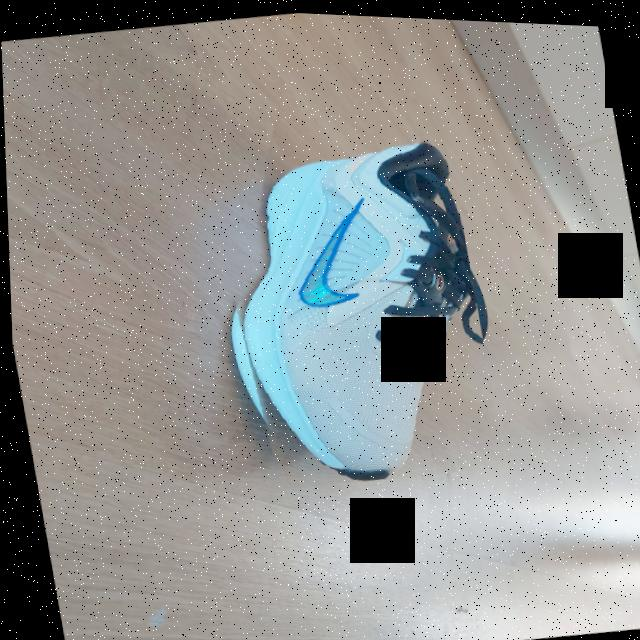shoe: (196, 123, 503, 498)
